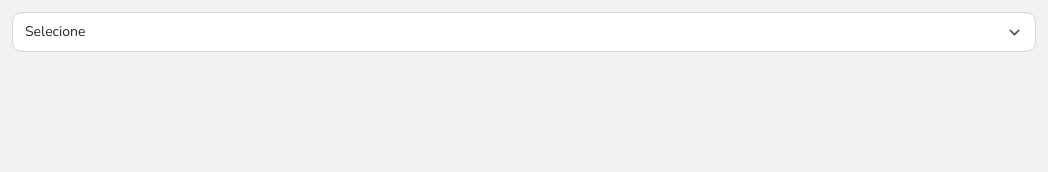
Scenario: SystemSelect › renders a safe placeholder for an empty option collection
Click the dropdown named "Sem opções".
click(55, 32)  # box [12, 12, 1036, 52]
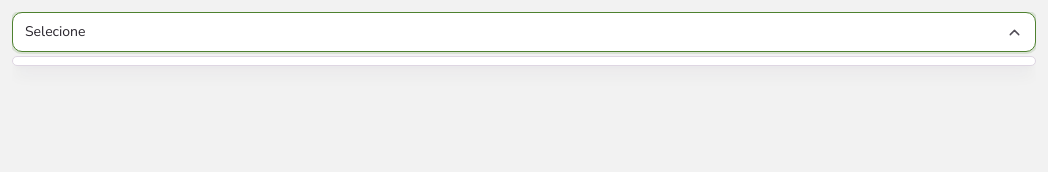
Expected: the list is shown, [12, 56, 1036, 66]
